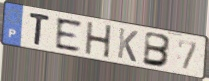7: (177, 39, 198, 71)
B: (141, 30, 173, 69)
E: (55, 17, 84, 53)
H: (85, 21, 114, 60)
K: (116, 27, 139, 64)
T: (28, 11, 51, 48)
